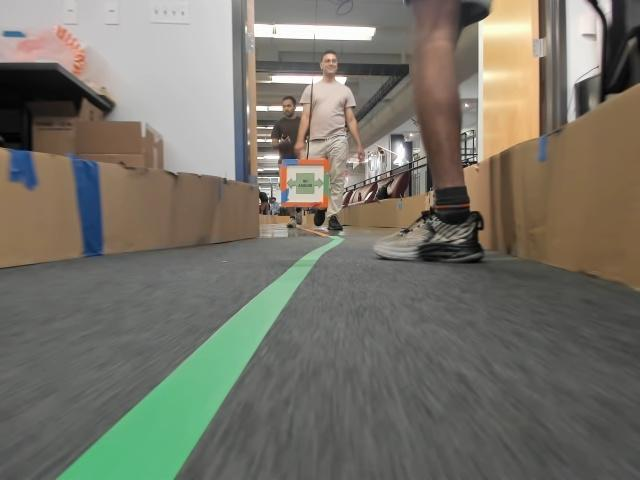Go Around: (287, 173, 322, 193)
